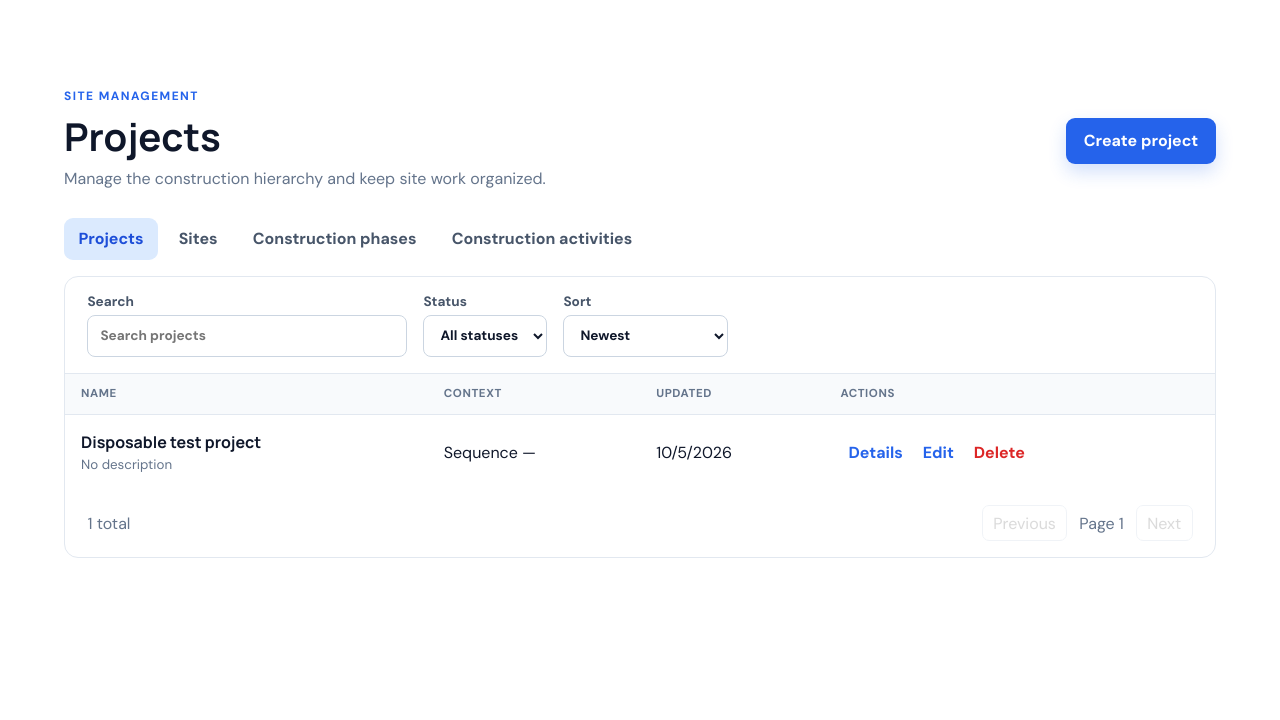
Scenario: confirmed Delete removes the project and refreshes the list
Click the button "Delete" at point(999, 452), box x1=966 y1=434 x2=1033 y2=470
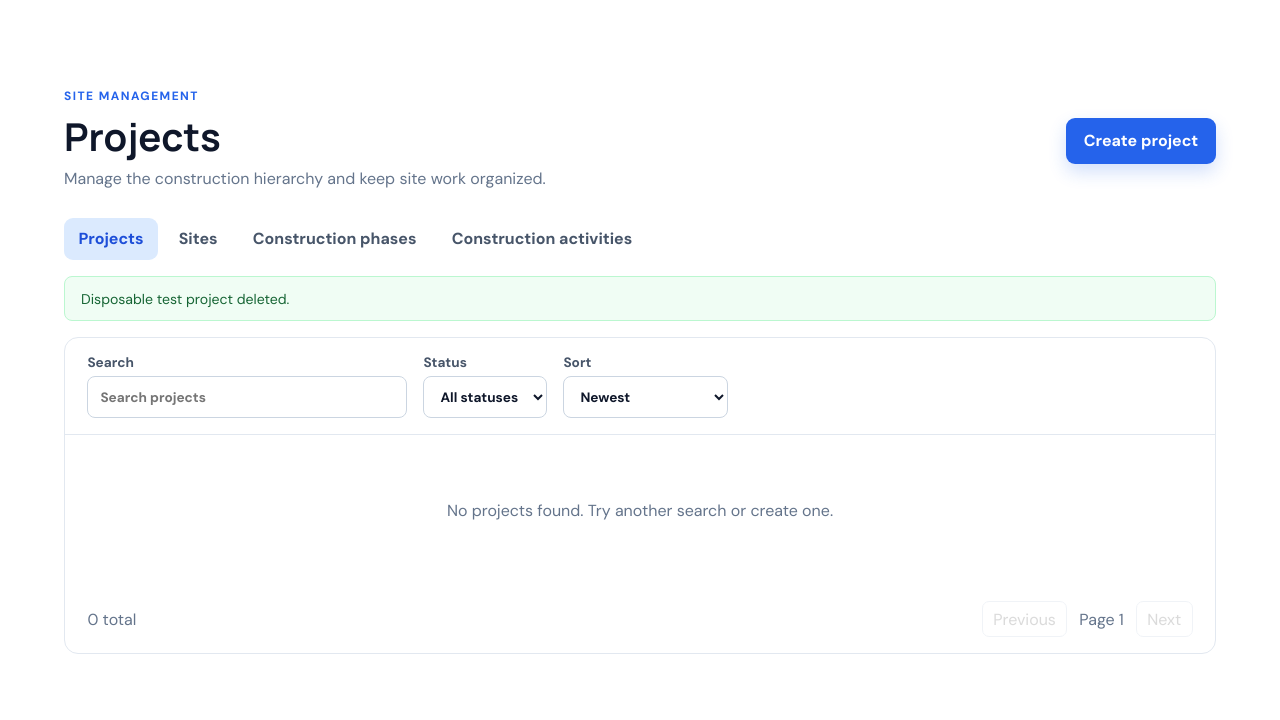
expect the text "No projects found. Try another search or create one." is shown: met, box x1=447 y1=500 x2=833 y2=521
expect the message reads "Disposable test project deleted.": met, box x1=81 y1=290 x2=289 y2=308
